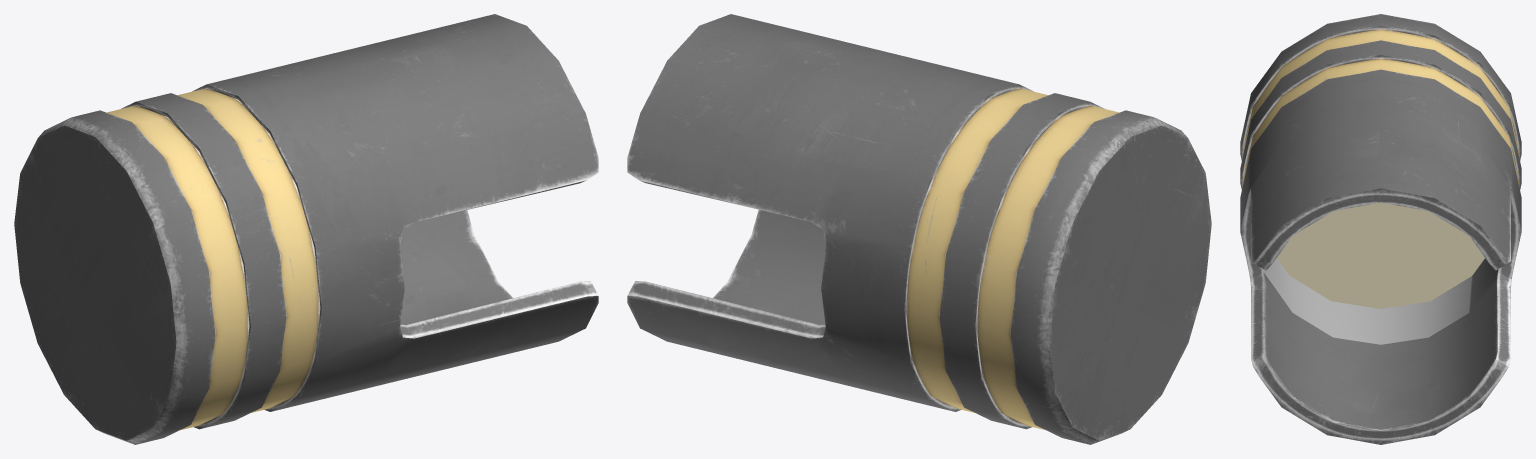
Rendered from guard_3_c_b.glb.
3 views of the same model, side by side, from view 1: azimuth 30°, elevation 25°; view 2: azimuth 150°, elevation 25°; view 3: azimuth 270°, elevation 25° (orthographic). The views are drawn at different scales.
Visible parts, largest first — view 1: guard_3_c_b_lod0; view 2: guard_3_c_b_lod0; view 3: guard_3_c_b_lod0.
Boxes of the visible parts, x1,y1,x2,y2 form: guard_3_c_b_lod0: [14, 14, 598, 444]; guard_3_c_b_lod0: [627, 14, 1211, 444]; guard_3_c_b_lod0: [1240, 14, 1521, 444].
Size of what is drawn, in the model's own units: 0.0462 by 0.0311 by 0.0309.
1 material, 1 textured.
